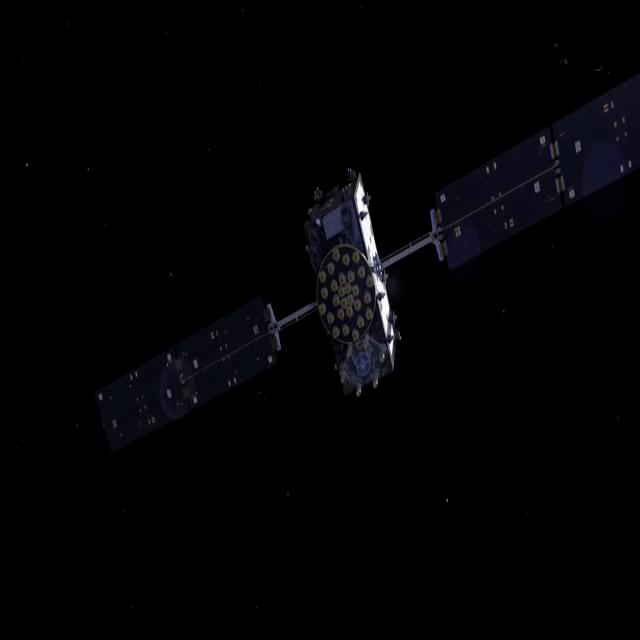satellite: (87, 63, 638, 481)
